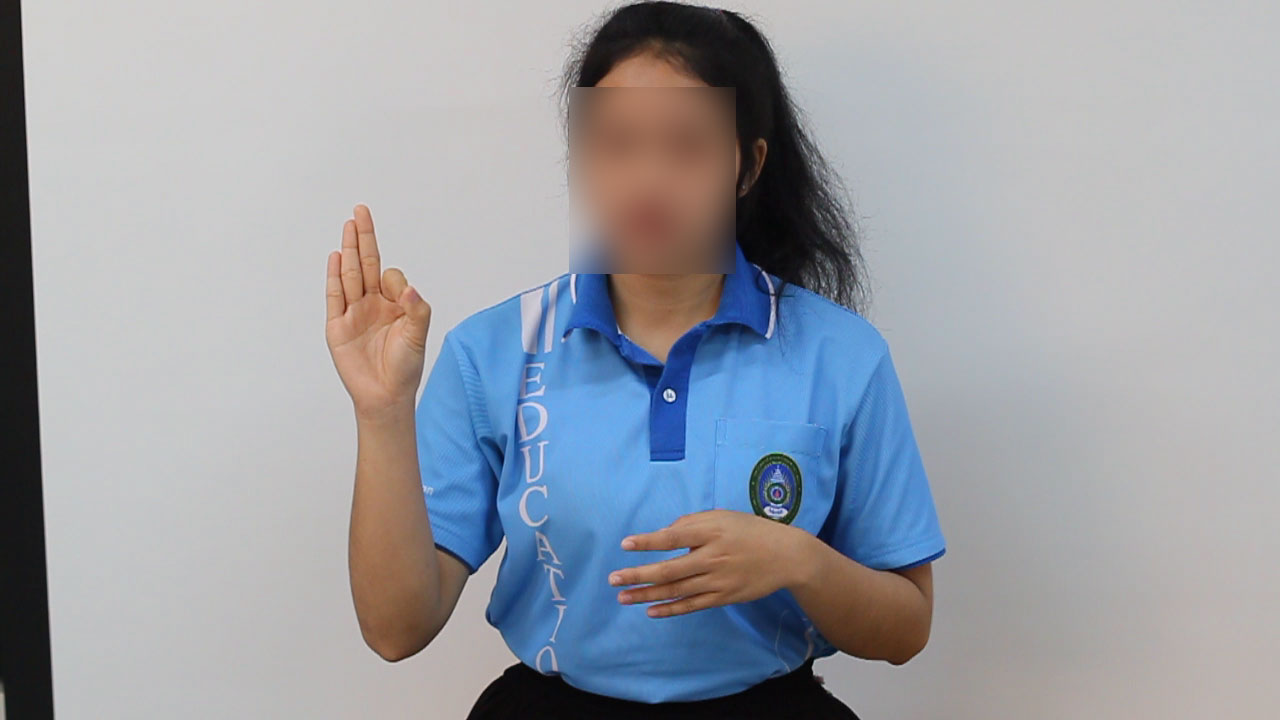for: (318, 199, 438, 433)
